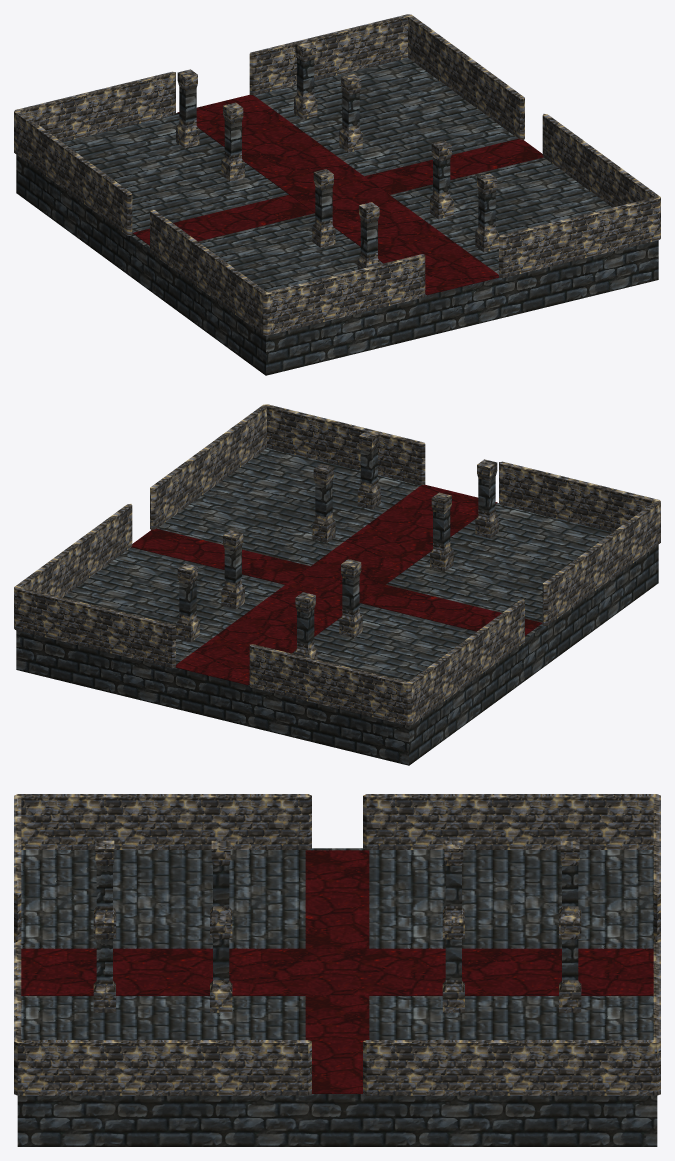
Rendered from room-4door.glb.
The picture shows the model from 3 angles, top to bottom: view 1: azimuth 30°, elevation 25°; view 2: azimuth 150°, elevation 25°; view 3: azimuth 270°, elevation 25°; orthographic projection. The views are drawn at different scales.
Visible parts, largest first — view 1: floor (×35), wall (×28), porch_floorCenter (×3), column (×8), wall_corner (×4); view 2: floor (×35), wall (×28), porch_floorCenter (×3), column (×8), wall_corner (×4); view 3: floor (×32), wall (×18), porch_floorCenter (×3), wall_corner (×4), column (×8).
Part boxes in pixels (x1,y1,x2,y2): floor (×35): (16,58,658,375); wall (×28): (36,24,637,325); porch_floorCenter (×3): (132,94,543,295); column (×8): (176,40,498,269); wall_corner (×4): (14,14,660,335); floor (×35): (16,448,658,765); wall (×28): (36,414,638,715); porch_floorCenter (×3): (131,484,542,685); column (×8): (176,430,498,659); wall_corner (×4): (14,404,660,725); floor (×32): (17,850,657,1146); wall (×18): (14,794,660,1095); porch_floorCenter (×3): (21,850,653,1093); wall_corner (×4): (14,794,660,1095); column (×8): (93,840,581,1012).
Size of the model in its own units: 10.13 by 2.7 by 11.13.
129 materials, 129 textured.
